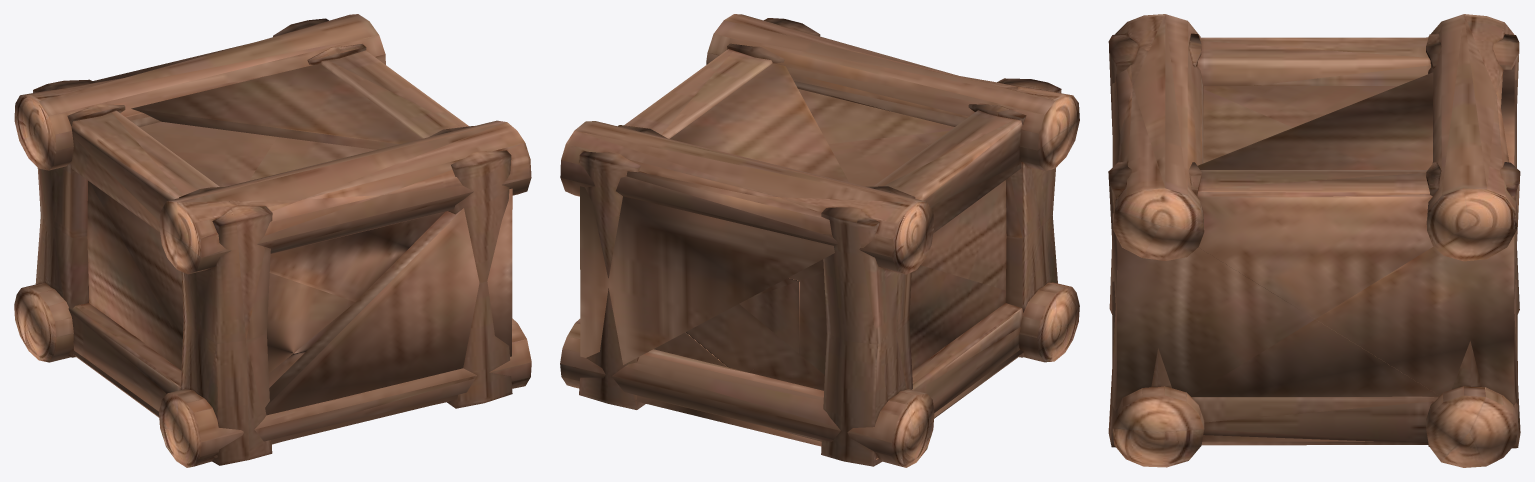
3 renders of one model, left to right at view 1: azimuth 30°, elevation 25°; view 2: azimuth 150°, elevation 25°; view 3: azimuth 270°, elevation 25°, orthographic. The views are drawn at different scales.
Visible parts, largest first — view 1: upgrade_a; view 2: upgrade_a; view 3: upgrade_a.
Part boxes in pixels (<box>): upgrade_a: <box>14,14,531,467</box>; upgrade_a: <box>560,14,1079,467</box>; upgrade_a: <box>1108,14,1520,467</box>.
Bounding box in the file's own units: 0.8 × 0.6 × 0.8.
Materials: 1 (1 with a texture image).
